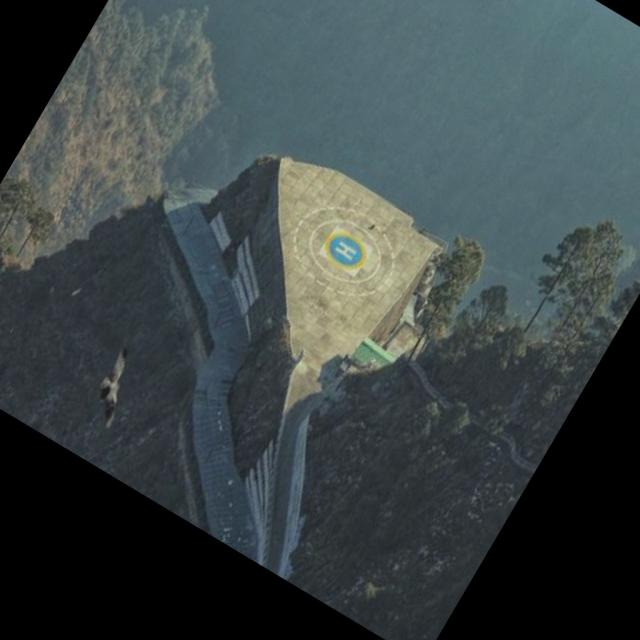helipad: (322, 232, 368, 270)
